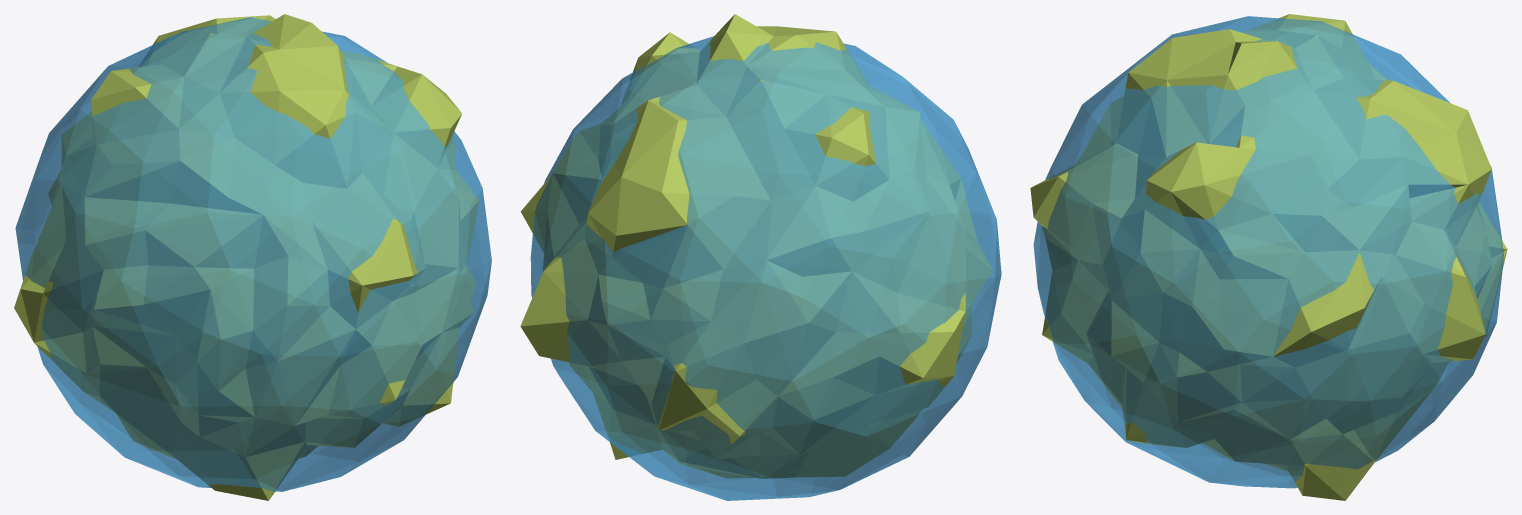
File: water_planet1.fbx
The picture shows the model from 3 angles, left to right: view 1: azimuth 30°, elevation 25°; view 2: azimuth 150°, elevation 25°; view 3: azimuth 270°, elevation 25°; orthographic projection.
Parts seen in each view (by area): view 1: water_planet1; view 2: water_planet1; view 3: water_planet1.
Part boxes in pixels (bbox=[...]): water_planet1: bbox=[14, 14, 491, 500]; water_planet1: bbox=[520, 14, 1001, 500]; water_planet1: bbox=[1030, 14, 1507, 500].
Size of the model in its own units: 207 by 207 by 202.
